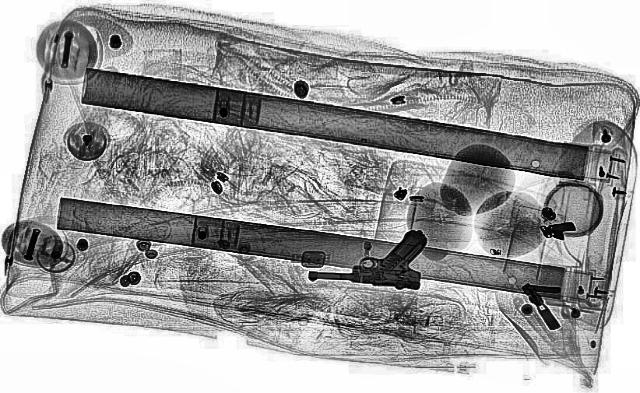Gun: (304, 223, 432, 289)
